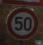Speed Limit -50-: (0, 1, 42, 44)
